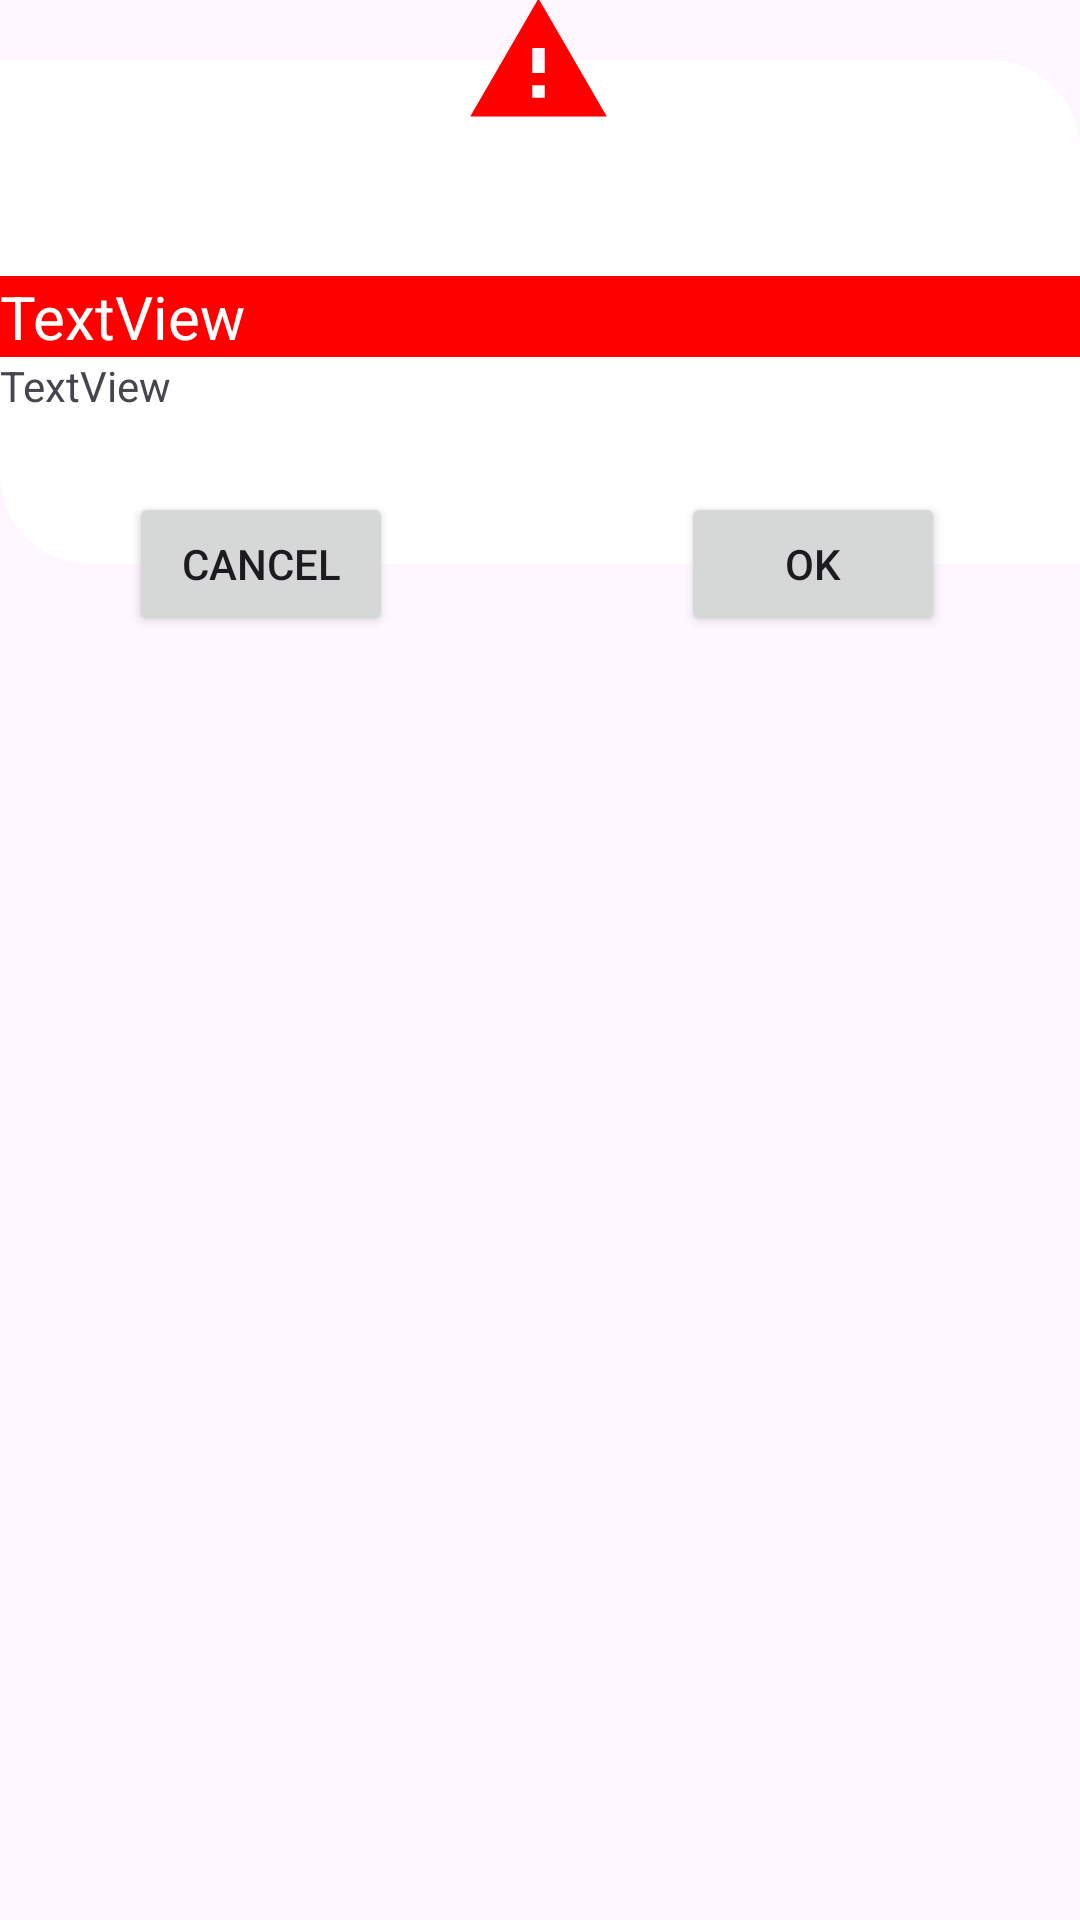

Where to tap for icons on this 1080*1920 app screen, as [x,y]:
warning: [538,58]
